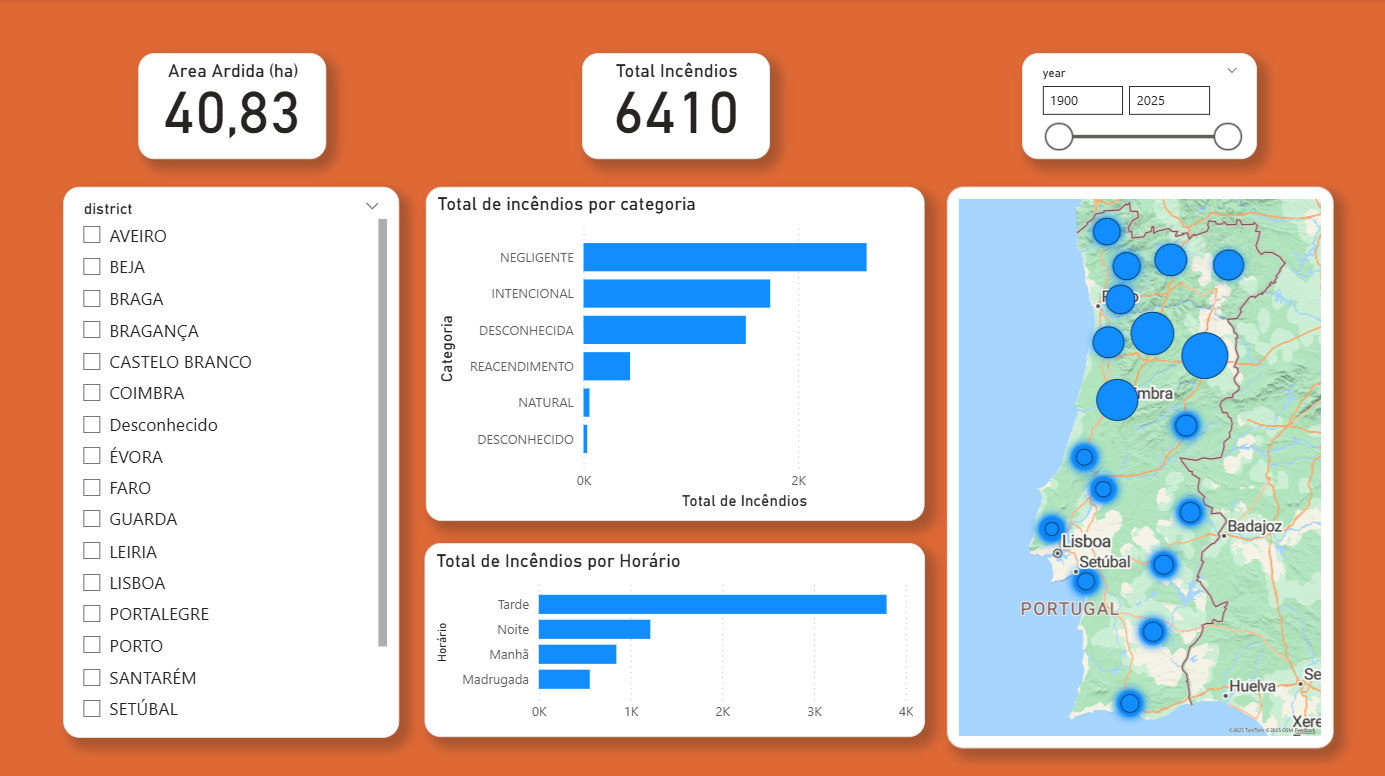

The dashboard page shown, as its layout file describes it:
{"tool":"powerbi","page":{"name":"Analise Incendios","canvas":[1280,720],"ordinal":0},"visuals":[{"type":"card","title":"Total Incêndios","fields":{"Values":["fact_fire.Total Incendios"]},"box":[537.5,50,172.5,97.5],"z":1000},{"type":"card","title":"Area Ardida (ha)","fields":{"Values":["fact_fire.Total Area Ardida (ha)"]},"box":[130,50,172.5,97.5],"z":2000},{"type":"azureMap","fields":{"Y":["Avg(fact_fire.latitude)"],"X":["Avg(fact_fire.longitude)"],"Category":["dim_location.district Hierarchy.district","dim_location.district Hierarchy.municipality"],"Size":["fact_fire.Total Area Ardida (ha)"]},"box":[872.5,173.8,355,516.2],"z":3000},{"type":"slicer","fields":{"Values":["dim_day.year"]},"box":[942.5,50,216.2,97.5],"z":4000},{"type":"clusteredBarChart","title":"Total de incêndios por categoria","fields":{"Category":["dim_cause.cause_family Hierarchy.cause_family","dim_cause.cause_family Hierarchy.cause_category"],"Y":["fact_fire.Total Incendios"]},"box":[393.8,173.8,458.8,307.5],"z":5000},{"type":"clusteredBarChart","title":"Total de Incêndios por Horário","fields":{"Category":["dim_hour.time_of_day"],"Y":["fact_fire.Total Incendios"]},"box":[392.5,501.2,460,178.8],"z":6000},{"type":"slicer","title":"Distrito","fields":{"Values":["dim_location.district"]},"box":[61.2,173.8,308.8,506.2],"z":7000}]}

Visuals, with their boxes in screenshot pixels (x1, y1, x2, y2), scaled from the page's 1280x720 canvas onto the 1385x776 screenshot:
"Total Incêndios" card: l=582, t=54, r=768, b=159
"Area Ardida (ha)" card: l=141, t=54, r=327, b=159
azureMap - Avg(fact_fire.latitude) x Avg(fact_fire.longitude): l=944, t=187, r=1328, b=744
slicer - dim_day.year: l=1020, t=54, r=1254, b=159
"Total de incêndios por categoria" clusteredBarChart: l=426, t=187, r=923, b=519
"Total de Incêndios por Horário" clusteredBarChart: l=425, t=540, r=922, b=733
"Distrito" slicer: l=66, t=187, r=400, b=733
